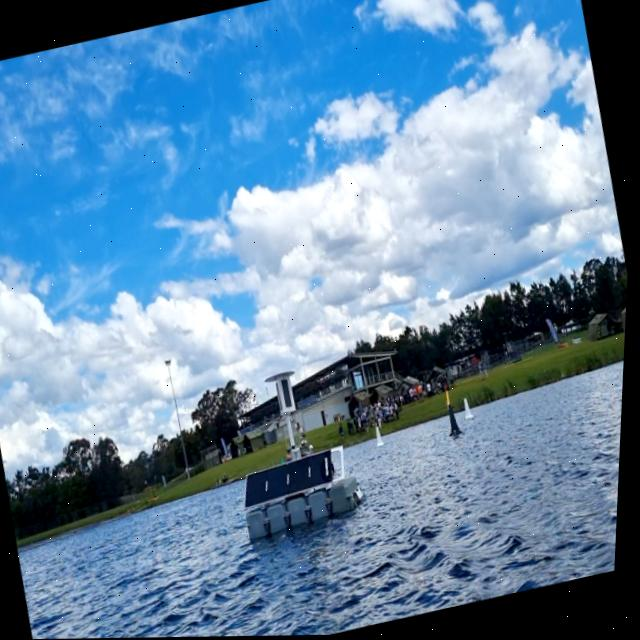led: (279, 375, 300, 412), (277, 379, 288, 414)
